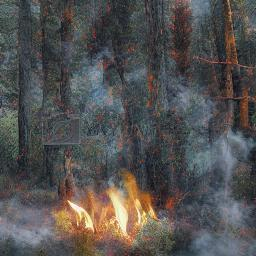Low smoke: (167, 87, 256, 256), (1, 188, 76, 255), (76, 63, 135, 130)
Small fire: (56, 173, 165, 246)
